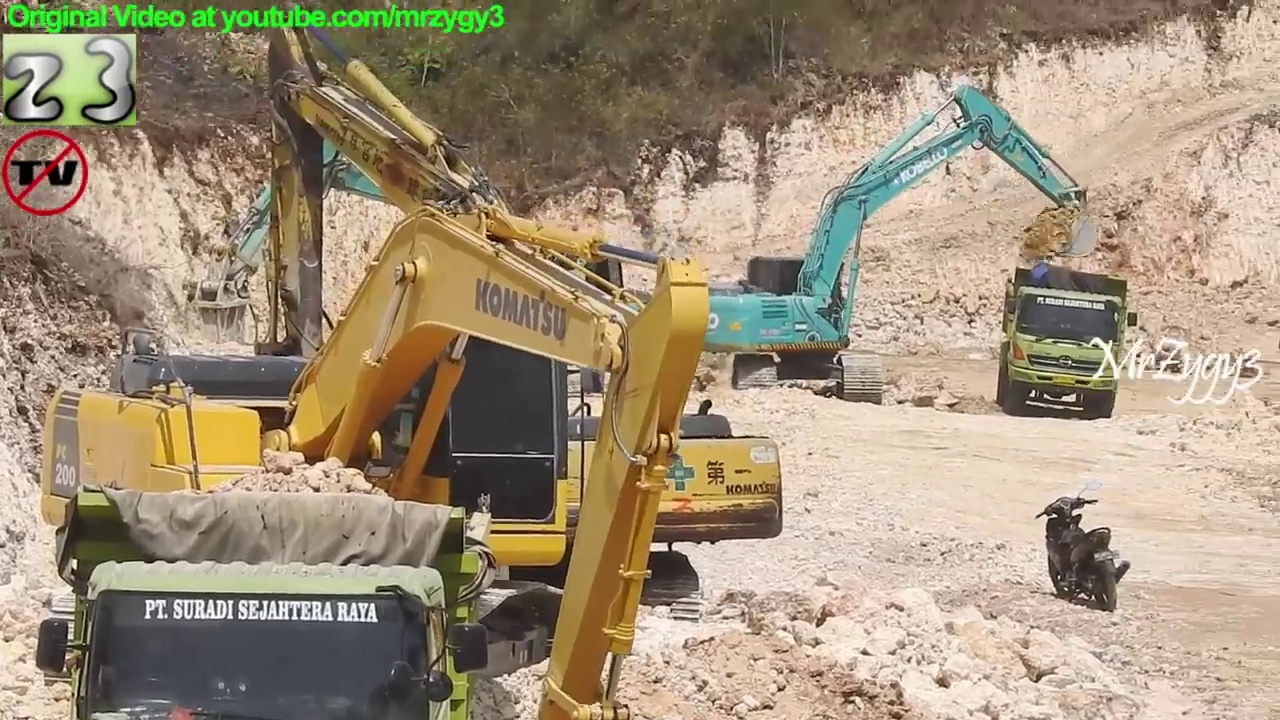excavator: (30, 192, 721, 720), (232, 1, 796, 631), (179, 109, 669, 412), (669, 79, 1106, 410)
truck: (30, 481, 498, 720), (993, 261, 1144, 423)
